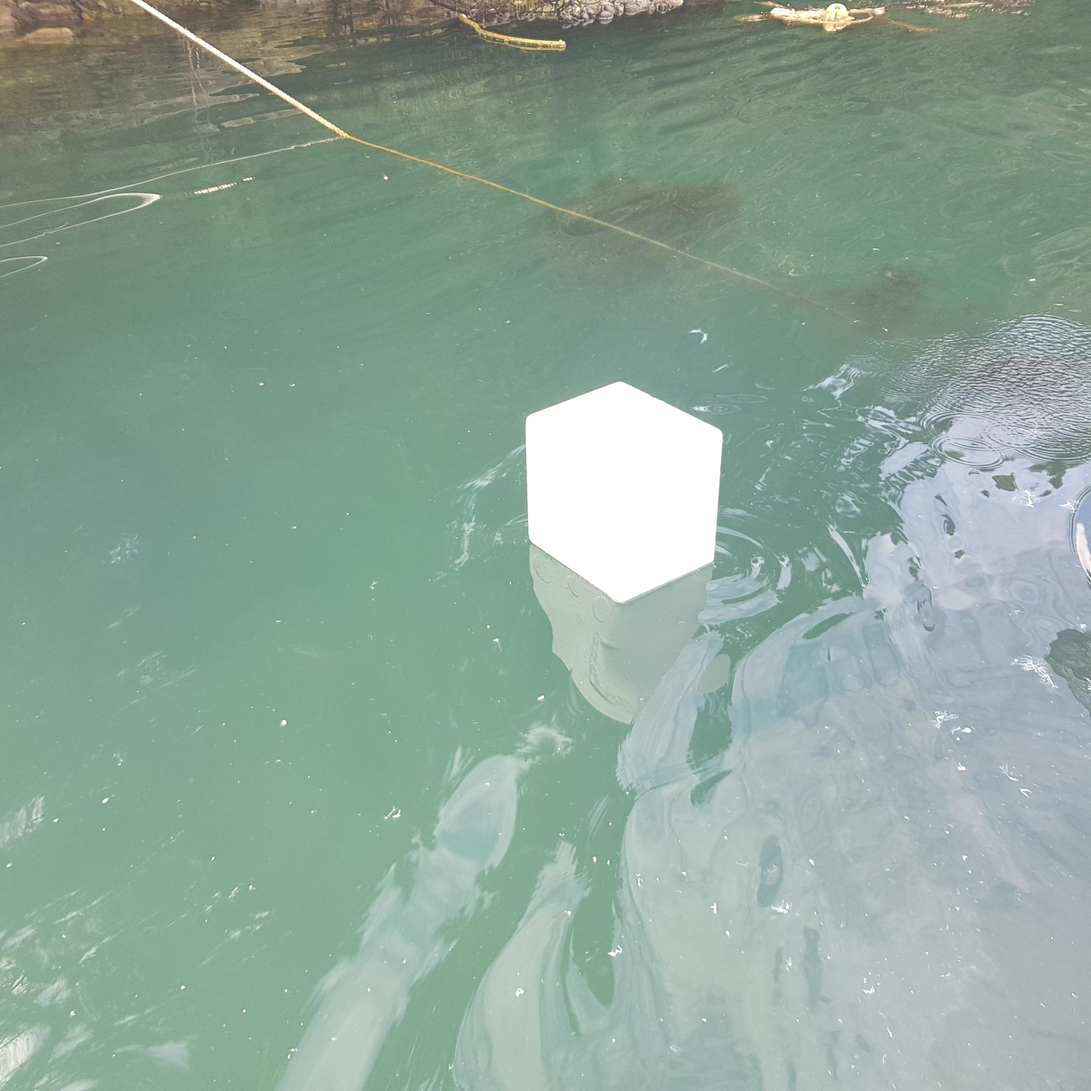sampah_terapung: (526, 381, 723, 603), (826, 4, 848, 21)
